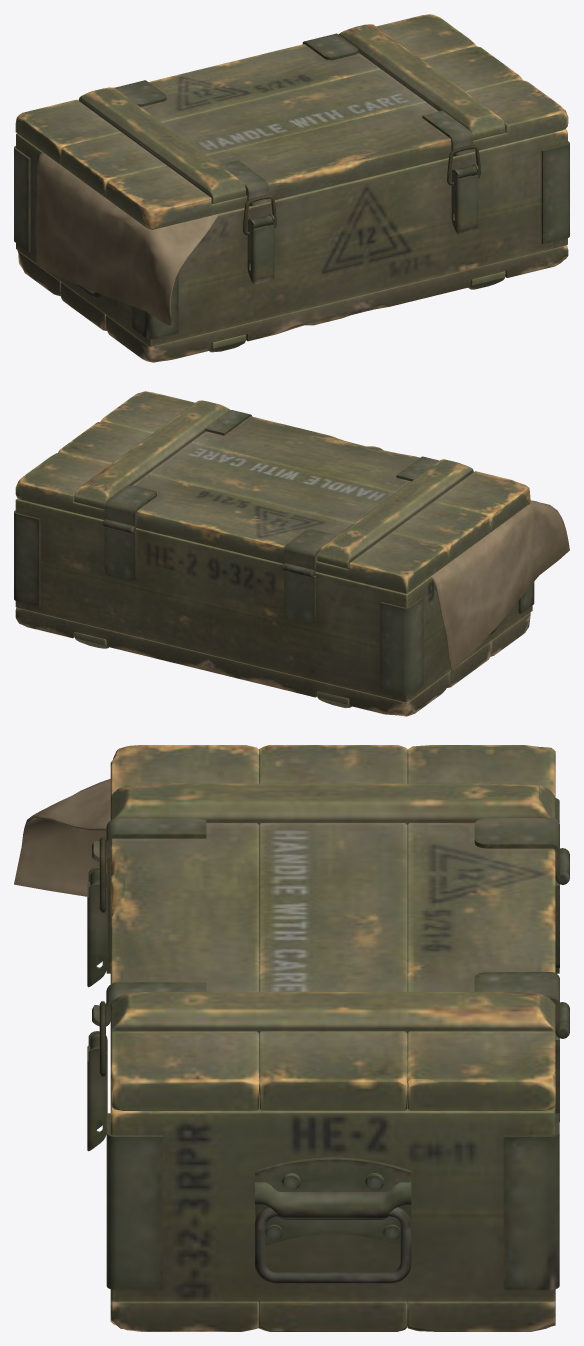
File: detail.fbx
The picture shows the model from 3 angles, top to bottom: view 1: azimuth 30°, elevation 25°; view 2: azimuth 150°, elevation 25°; view 3: azimuth 270°, elevation 25°; orthographic projection. The views are drawn at different scales.
Parts seen in each view (by area): view 1: old_military_crate_lid_a, old_military_crate_a, old_military_crate_cloth_a, old_military_crate_latch_a, old_military_crate_loop_a; view 2: old_military_crate_lid_a, old_military_crate_a, old_military_crate_cloth_a; view 3: old_military_crate_lid_a, old_military_crate_a, old_military_crate_cloth_a, old_military_crate_latch_a, old_military_crate_loop_a.
Boxes of the visible parts, box(x1,y1,x2,y2) form: old_military_crate_lid_a: box(15, 14, 568, 230); old_military_crate_a: box(14, 129, 569, 362); old_military_crate_cloth_a: box(35, 152, 219, 325); old_military_crate_latch_a: box(247, 164, 478, 284); old_military_crate_loop_a: box(243, 145, 480, 235); old_military_crate_lid_a: box(15, 391, 530, 593); old_military_crate_a: box(14, 498, 534, 716); old_military_crate_cloth_a: box(431, 500, 569, 670); old_military_crate_lid_a: box(92, 745, 569, 1110); old_military_crate_a: box(106, 798, 569, 1331); old_military_crate_cloth_a: box(14, 778, 110, 896); old_military_crate_latch_a: box(87, 867, 107, 1151); old_military_crate_loop_a: box(99, 837, 105, 1076).
Size of the model in its own units: 81.54 by 30.09 by 53.76.
